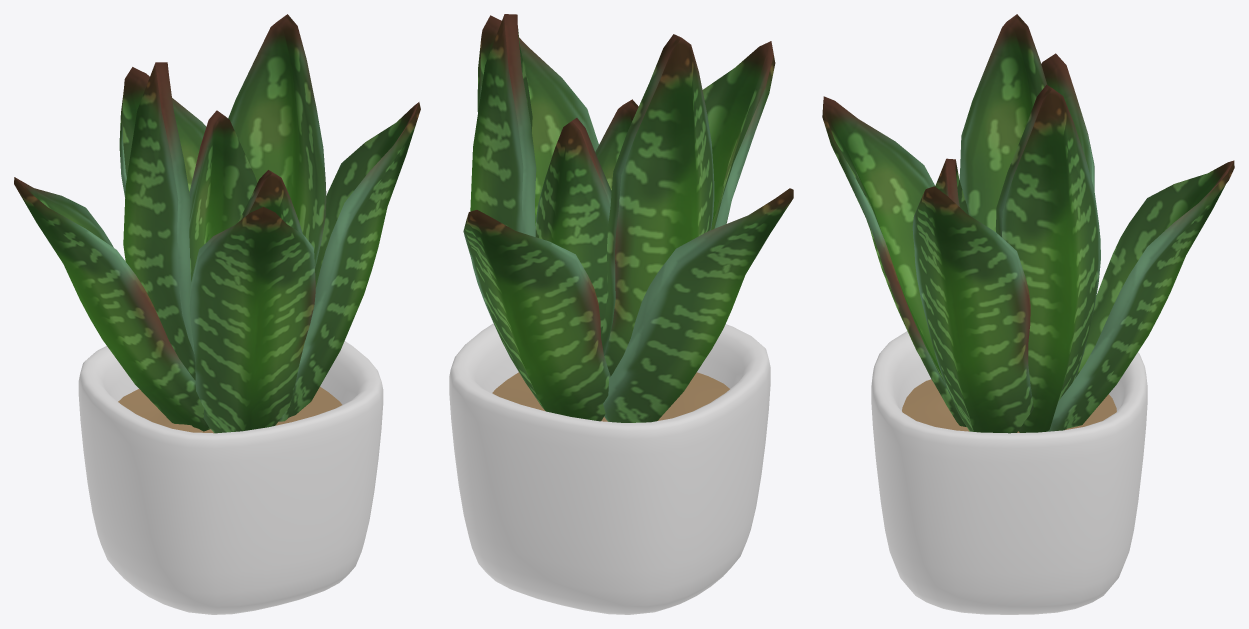
Rendered from plant3.gltf.
3 renders of one model, left to right at view 1: azimuth 30°, elevation 25°; view 2: azimuth 150°, elevation 25°; view 3: azimuth 270°, elevation 25°, orthographic. The views are drawn at different scales.
Visible parts, largest first — view 1: aroe, Pot001; view 2: aroe, Pot001; view 3: aroe, Pot001.
Boxes of the visible parts, <box> form: aroe: <box>14,14,420,433</box>; Pot001: <box>78,341,383,614</box>; aroe: <box>463,14,793,422</box>; Pot001: <box>449,323,770,614</box>; aroe: <box>822,14,1234,433</box>; Pot001: <box>871,331,1147,614</box>.
Size of the model in its own units: 0.8006 by 1.17 by 0.8222.
Materials: 3 (1 with a texture image).
